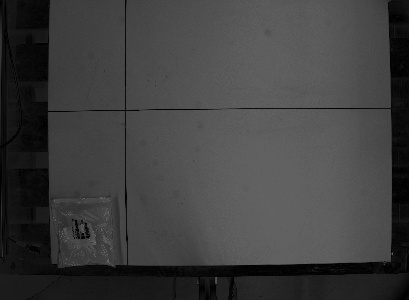t3: (48, 194, 121, 272)
